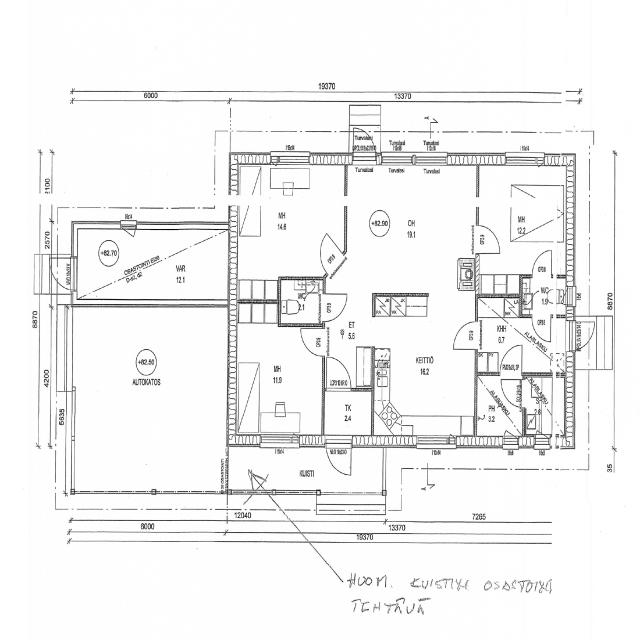door: (324, 436, 353, 478), (451, 318, 482, 351), (325, 354, 352, 391), (473, 222, 503, 255), (320, 290, 349, 323), (298, 326, 327, 358), (351, 127, 377, 162), (528, 246, 555, 278), (52, 256, 75, 292), (499, 343, 524, 373), (572, 320, 596, 350), (532, 315, 553, 344), (502, 379, 522, 408), (121, 221, 138, 240)
window: (258, 432, 300, 450), (413, 434, 457, 450), (506, 152, 541, 166), (275, 152, 311, 165)
zone: (64, 303, 232, 490), (348, 164, 477, 292), (374, 300, 478, 437), (236, 162, 346, 278), (77, 227, 230, 306), (230, 320, 325, 436), (478, 166, 569, 278), (479, 316, 573, 379), (474, 373, 523, 440), (524, 376, 570, 444), (322, 389, 373, 438), (278, 278, 323, 326), (519, 276, 569, 316), (499, 343, 523, 374)
